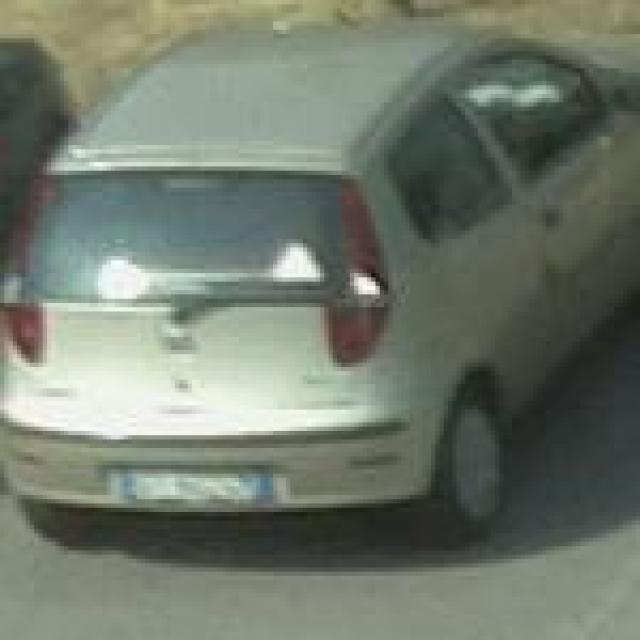cars-sUYr: (0, 6, 640, 562)
